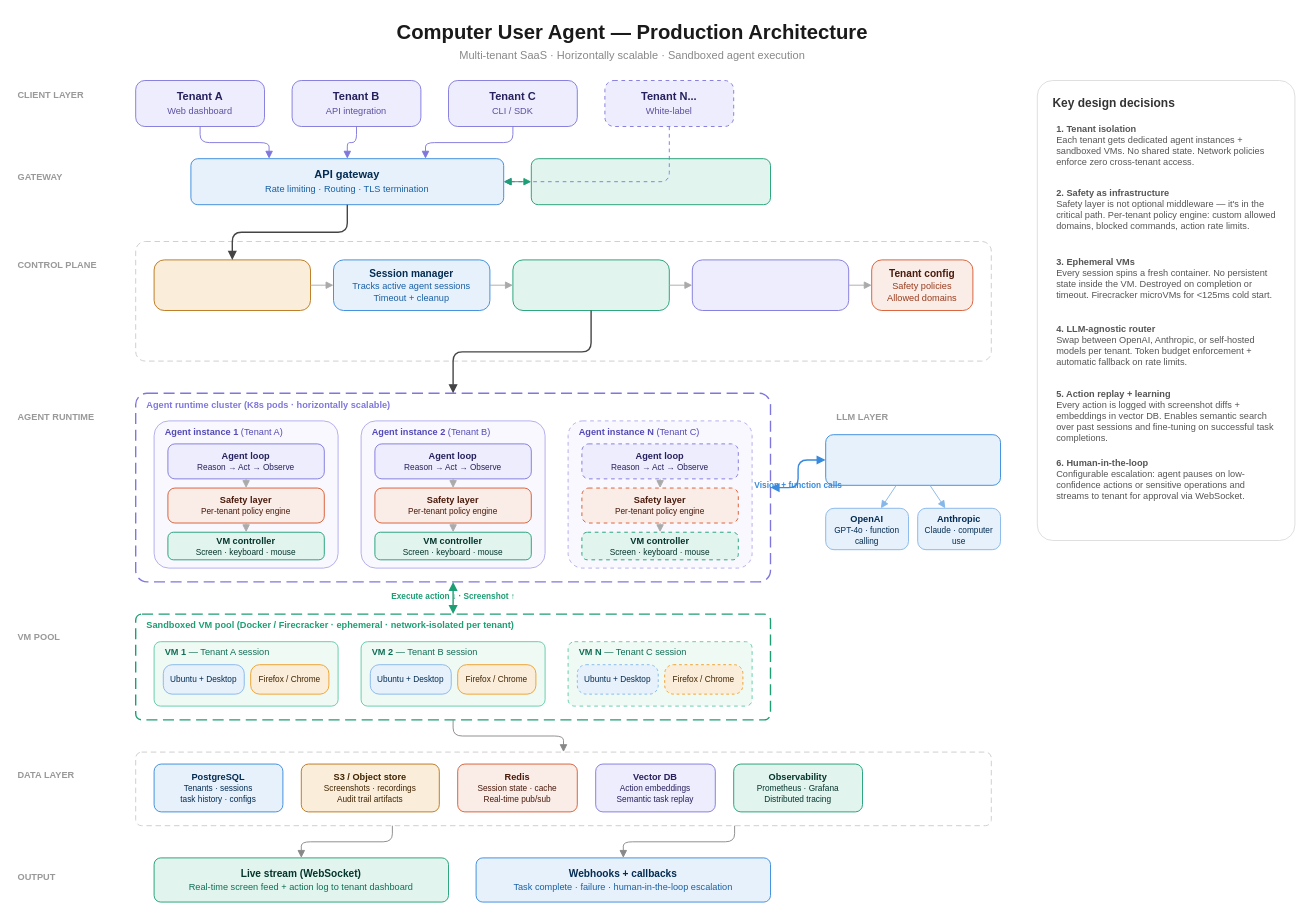
Image size: 1311x918. Some labels were removed from this diagram. Here are the shapes that lost their labels. From the top down, the centre of each, then its label:
the point at 650,181: Auth service JWT · API keys · RBAC · Tenant isolation
the point at 231,284: Task queue Redis / SQS Priority + FIFO per tenant
the point at 590,284: Agent scheduler Assigns tasks to agents Bin-packing · auto-scale
the point at 770,284: Usage metering Per-tenant billing Token + VM-min tracking
the point at 912,459: LLM router Model selection · fallback Token budget enforcement
